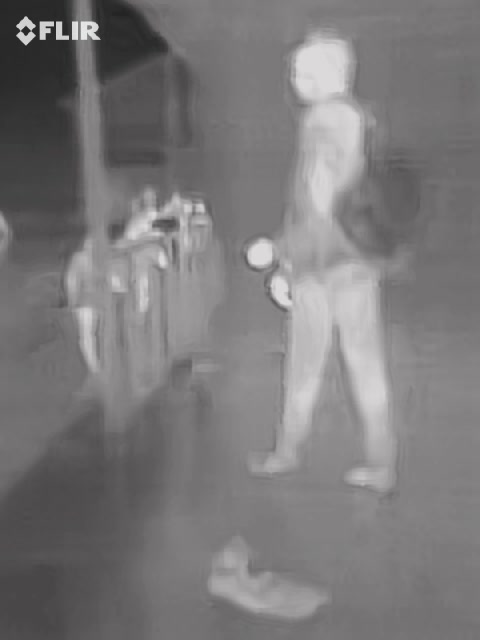head: (289, 27, 373, 112)
